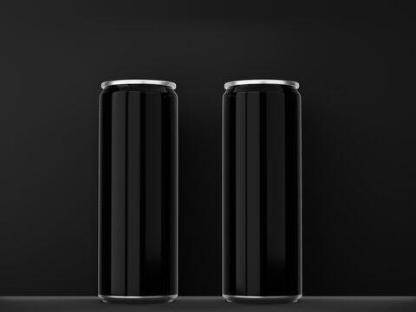Can: (218, 77, 306, 305), (94, 78, 182, 304)
